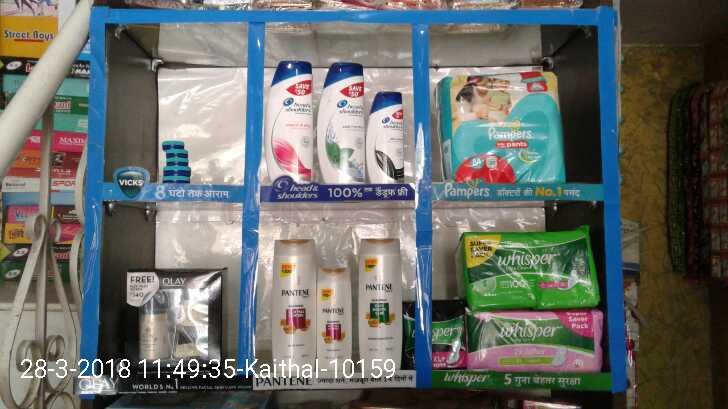vicks: (158, 139, 192, 187)
